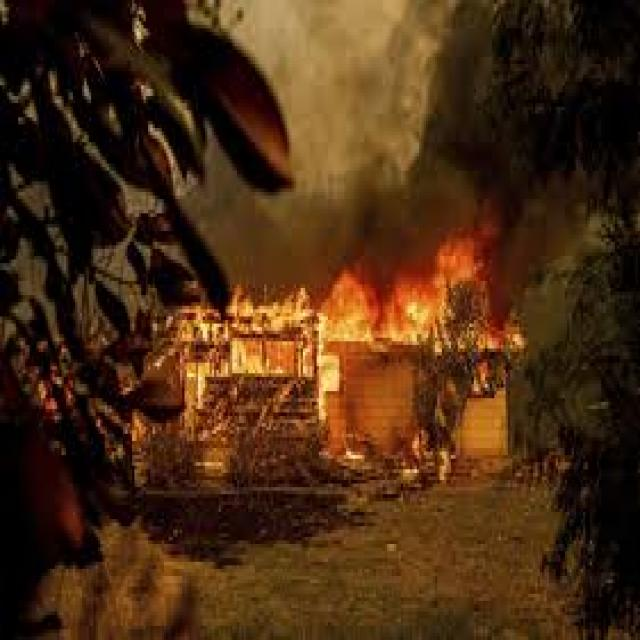Forest Fire: (142, 170, 602, 640)
